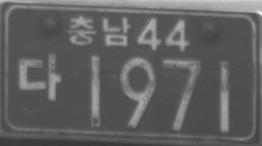1: (80, 54, 110, 129), (210, 59, 239, 135)
4: (135, 16, 162, 52), (164, 18, 190, 52)
7: (161, 57, 204, 132)
9: (118, 56, 159, 129)
다: (16, 53, 62, 103)
충남_O: (66, 14, 132, 47)
